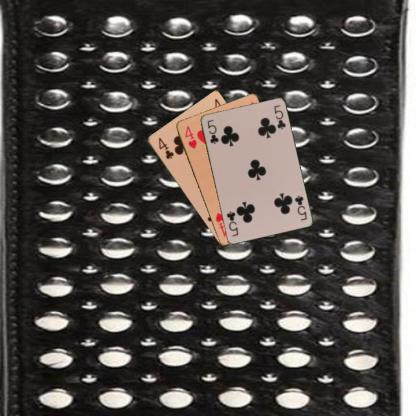4c: (155, 134, 175, 160)
4h: (182, 123, 198, 150)
5c: (292, 192, 308, 222), (204, 117, 219, 145)
